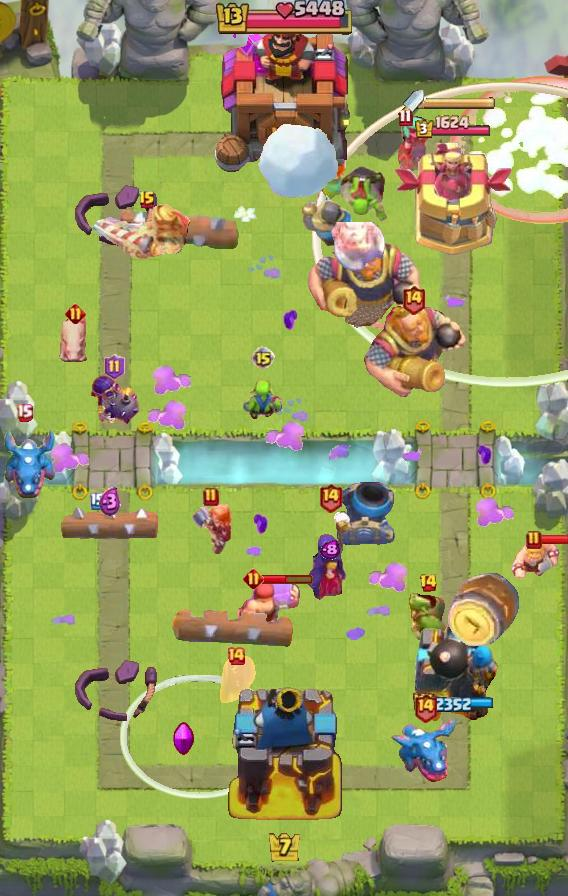archer: (504, 536, 568, 582)
axe: (306, 509, 354, 600)
bar: (395, 142, 514, 256)
bar-level: (338, 163, 388, 223)
clock: (213, 0, 355, 38)
dirt: (446, 570, 524, 648)
electro-spirit: (99, 487, 121, 517), (320, 540, 340, 560)
emote: (261, 573, 314, 585), (540, 535, 568, 546)
firecracker: (300, 197, 364, 253)
flying-machine: (406, 591, 450, 647)
giant: (58, 313, 92, 369)
giant-skeleton: (306, 232, 422, 332), (359, 304, 467, 400)
goblin-ball: (87, 373, 141, 429)
graveyard: (390, 715, 460, 783), (0, 426, 58, 500)
hog-rider: (188, 504, 234, 558), (313, 153, 351, 205)
king-tower: (211, 7, 357, 181), (223, 680, 345, 826)
king-tower-bar: (424, 97, 496, 111)
mighty-miner: (230, 575, 300, 631)
minion: (169, 604, 297, 650), (117, 209, 241, 249), (60, 503, 160, 545)
musketeer: (335, 481, 395, 545)
phoenix-big: (448, 75, 568, 226)
ram-rider: (92, 202, 202, 278)
royal-giant: (331, 222, 387, 272)
selected: (414, 115, 492, 140), (414, 693, 495, 714)
skeleton-king-skill: (173, 722, 195, 756)
spear-goblin: (216, 655, 256, 703)
text: (401, 284, 426, 315), (318, 483, 343, 514), (414, 693, 438, 724), (251, 346, 275, 370), (103, 354, 124, 380), (66, 303, 87, 324), (243, 567, 264, 588), (418, 573, 438, 593), (226, 646, 246, 666), (138, 190, 156, 210), (16, 402, 33, 421), (203, 487, 219, 507), (526, 530, 542, 550), (90, 492, 106, 510), (399, 108, 414, 127)
tower-bar: (403, 615, 503, 731)
wall-breaker: (257, 122, 341, 200)
witch: (396, 115, 442, 171)
zap: (241, 373, 285, 428)
